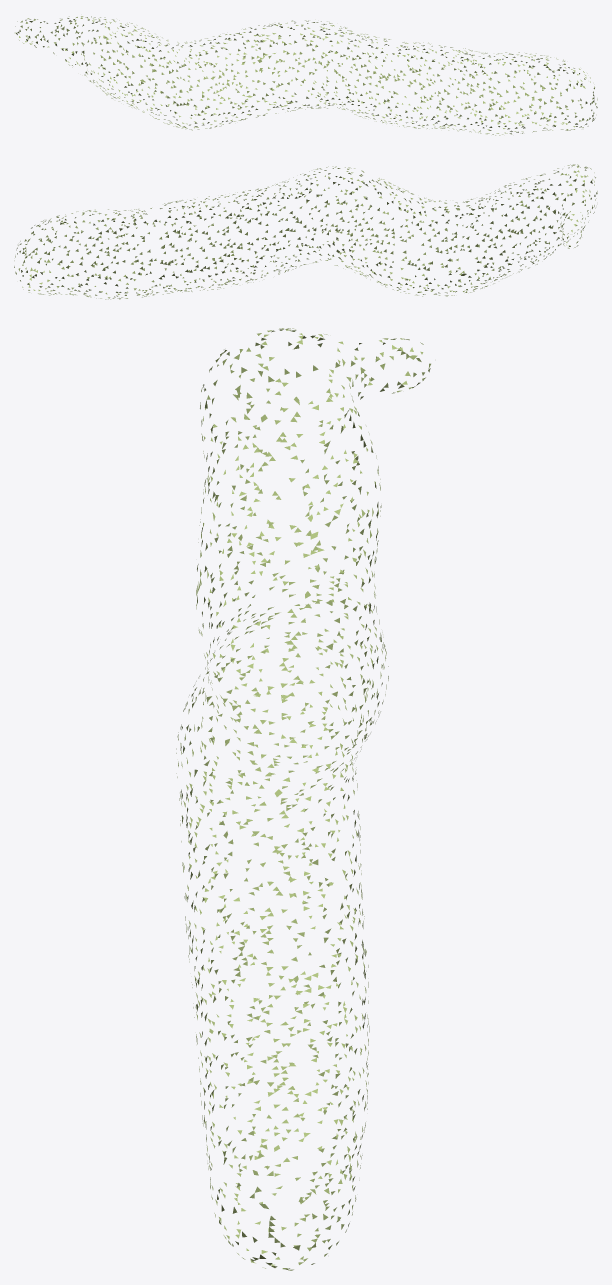
Rendered from morph_011.glb.
3 views of the same model, one above another, from view 1: azimuth 30°, elevation 25°; view 2: azimuth 150°, elevation 25°; view 3: azimuth 270°, elevation 25° (orthographic). The views are drawn at different scales.
Bounding box in the file's own units: 130 × 52.71 × 26.91.
